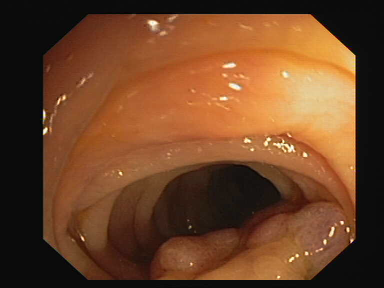polyp: (141, 211, 356, 273)
